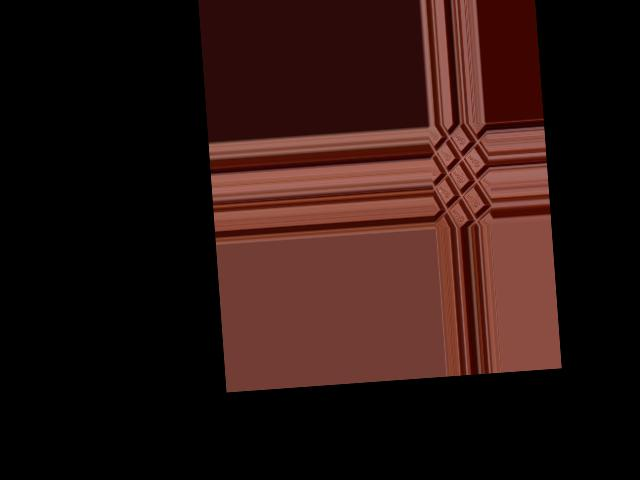chocolate: (430, 124, 494, 229)
